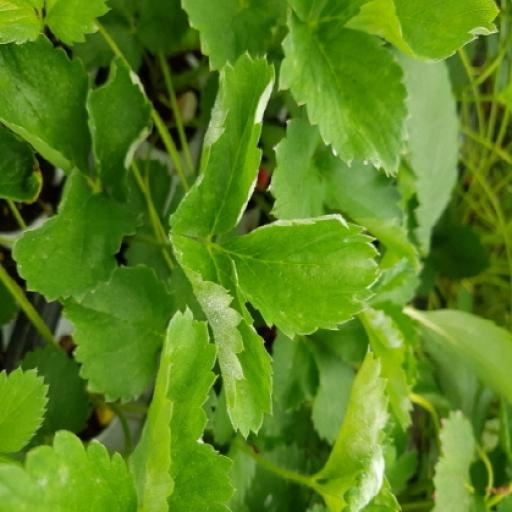Powdery Mildew Leaf: (235, 72, 345, 282), (130, 170, 294, 300), (237, 273, 344, 462), (119, 0, 199, 171), (373, 0, 511, 83)
